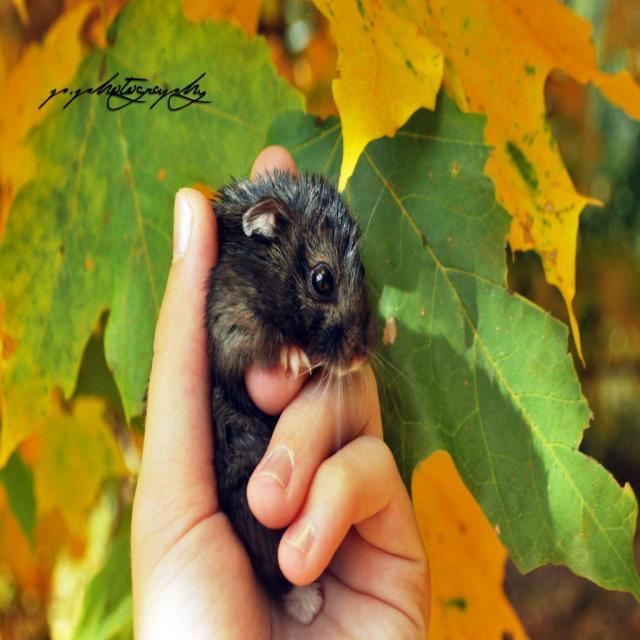rat: (142, 172, 417, 628)
